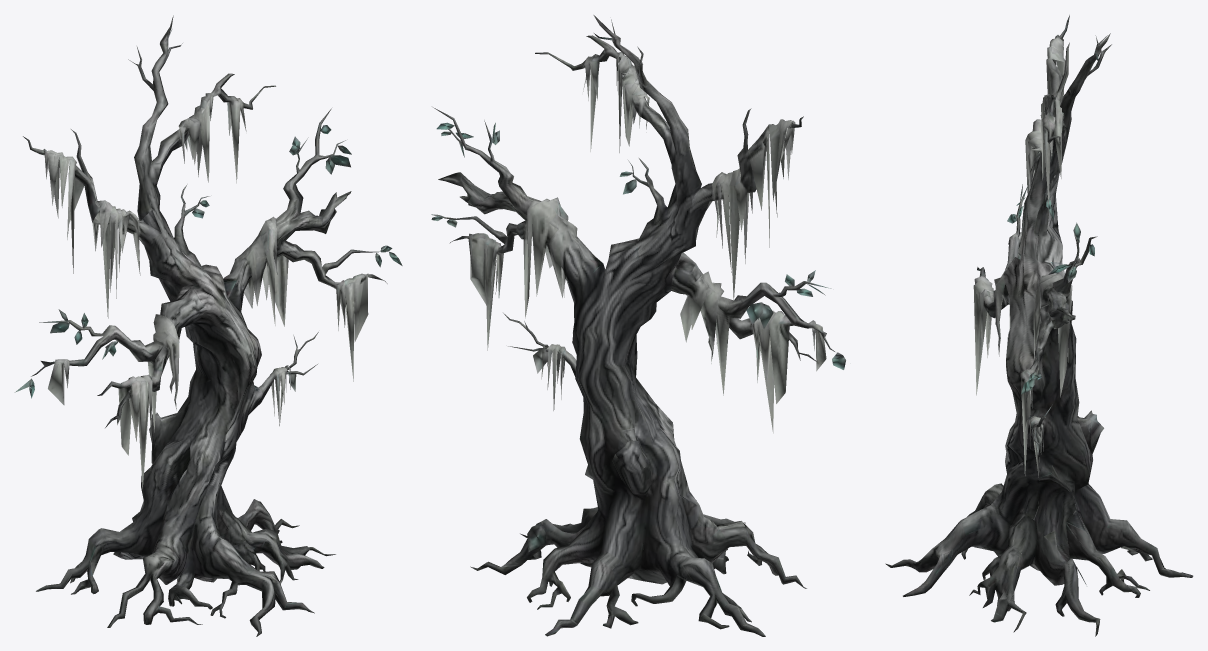
File: prop-tree.glb
3 renders of one model, left to right at view 1: azimuth 30°, elevation 25°; view 2: azimuth 150°, elevation 25°; view 3: azimuth 270°, elevation 25°, orthographic. The views are drawn at different scales.
Bounding box in the file's own units: 0.7511 × 1 × 0.5113.
Materials: 1 (1 with a texture image).
